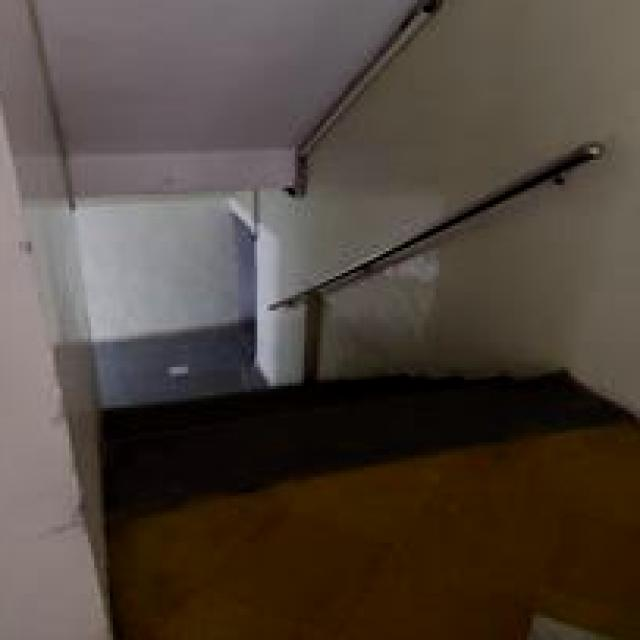downstair: (98, 346, 500, 491)
